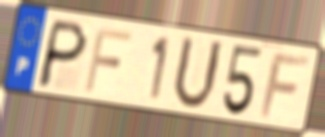1: (148, 34, 170, 103)
5: (220, 43, 264, 118)
F: (257, 52, 312, 120), (82, 25, 134, 95)
P: (34, 17, 90, 91)
U: (169, 33, 225, 113)
